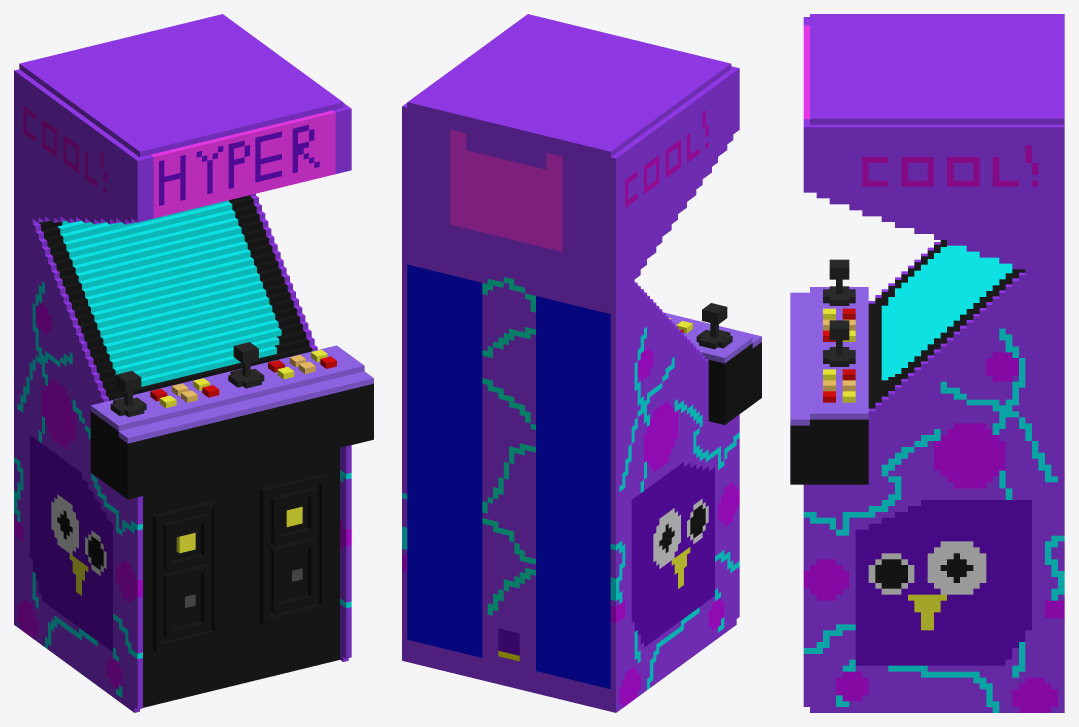
The model's file is Arcade.obj.
The picture shows the model from 3 angles, left to right: view 1: azimuth 30°, elevation 25°; view 2: azimuth 150°, elevation 25°; view 3: azimuth 270°, elevation 25°; orthographic projection. The views are drawn at different scales.
Size of the model in its own units: 4.6 by 10 by 4.2.
1 material, 1 textured.
